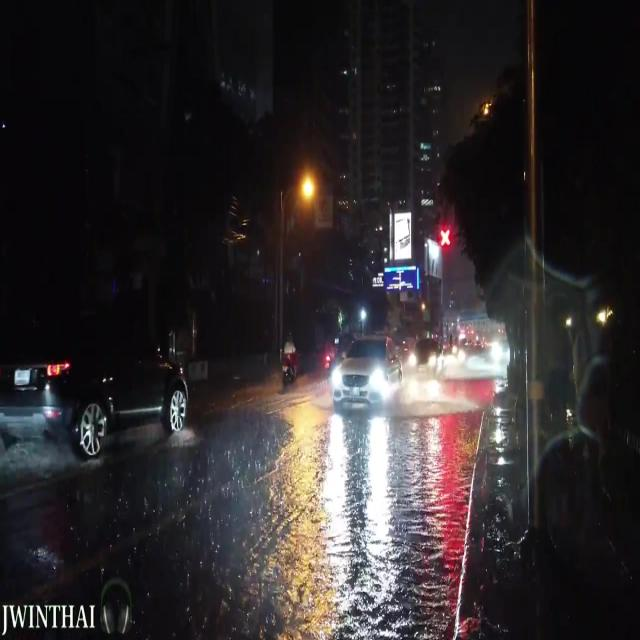Car: (10, 336, 186, 441), (330, 331, 399, 410)
